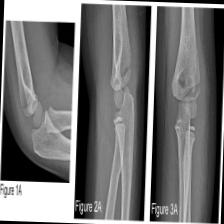oblique-fracture: (73, 2, 148, 221), (149, 5, 220, 222), (0, 19, 75, 183)
